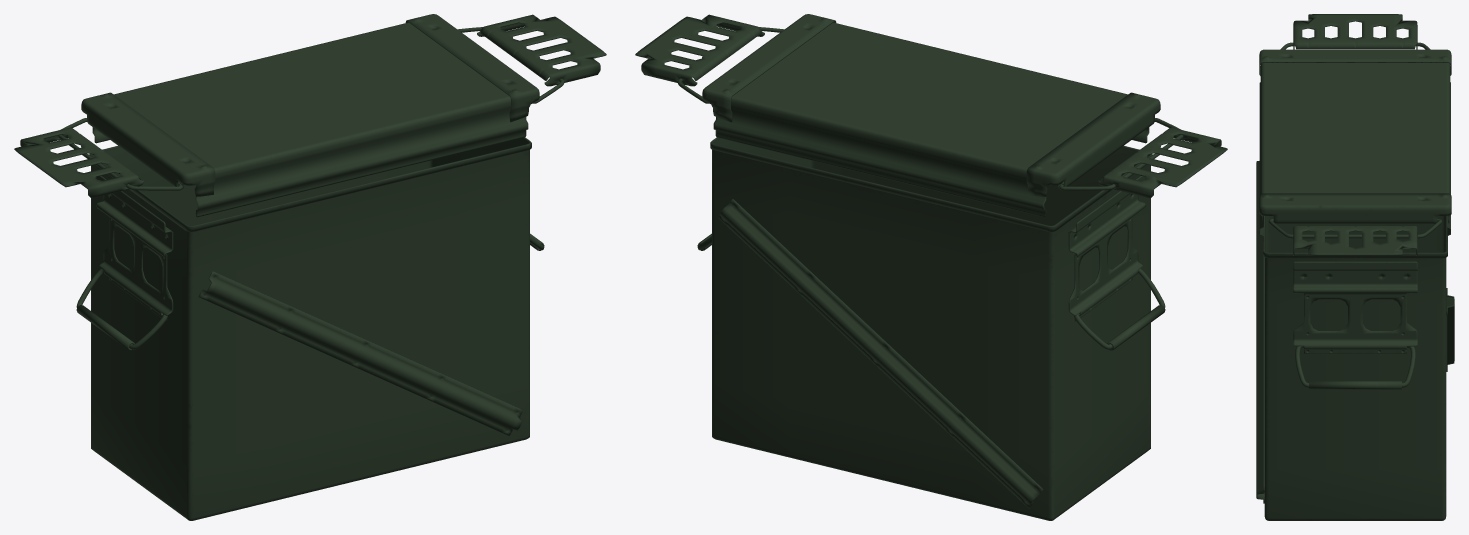
File: military_cartridge_box.glb
3 views of the same model, side by side, from view 1: azimuth 30°, elevation 25°; view 2: azimuth 150°, elevation 25°; view 3: azimuth 270°, elevation 25° (orthographic). The views are drawn at different scales.
Parts seen in each view (by area): view 1: Object_2, Object_3; view 2: Object_2, Object_3; view 3: Object_2, Object_3.
Boxes of the visible parts, x1=… form: Object_2: x1=14, y1=14, x2=606, y2=520; Object_3: x1=14, y1=19, x2=606, y2=409; Object_2: x1=635, y1=14, x2=1227, y2=520; Object_3: x1=635, y1=19, x2=1227, y2=506; Object_2: x1=1256, y1=14, x2=1454, y2=520; Object_3: x1=1256, y1=18, x2=1454, y2=503.
Size of the model in its own units: 519 by 322 by 181.
1 material, 1 textured.
